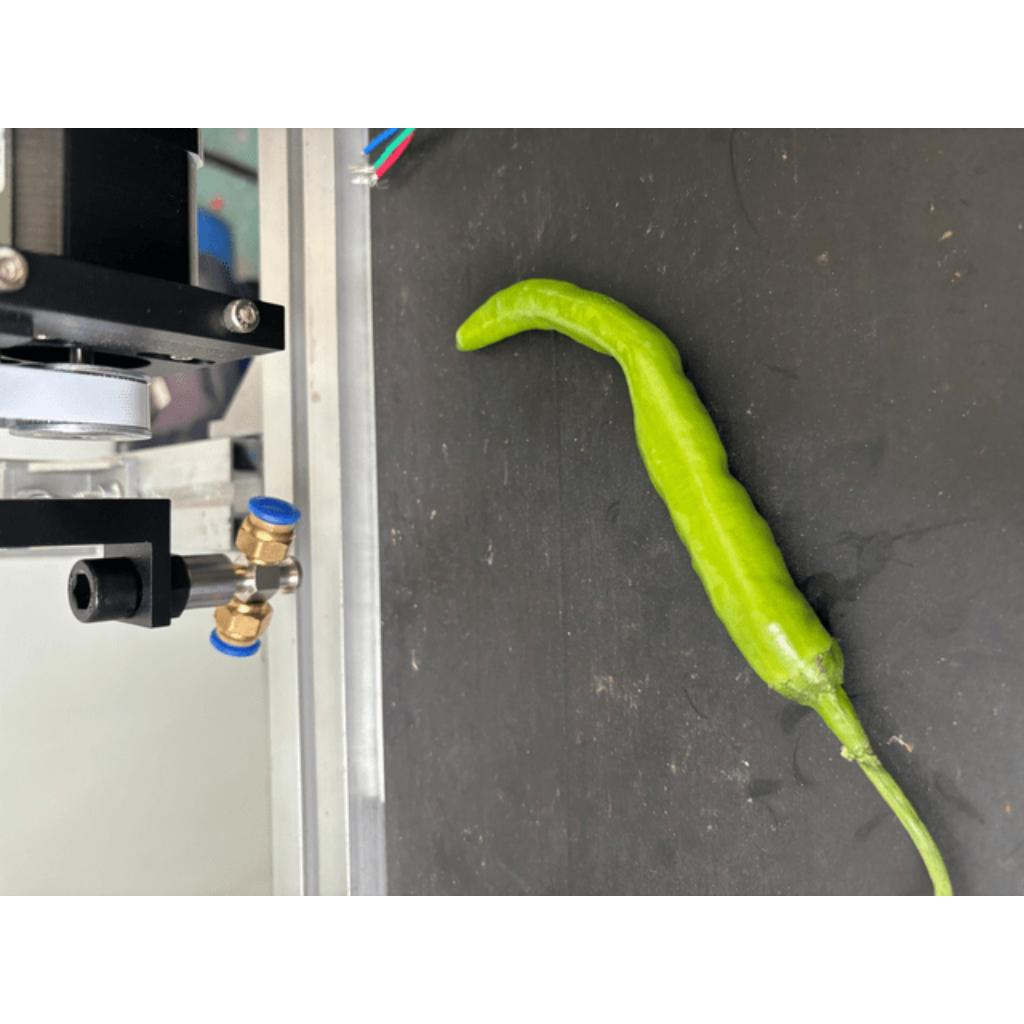chili: (450, 272, 846, 709)
